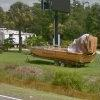Boat: (28, 37, 96, 68)
